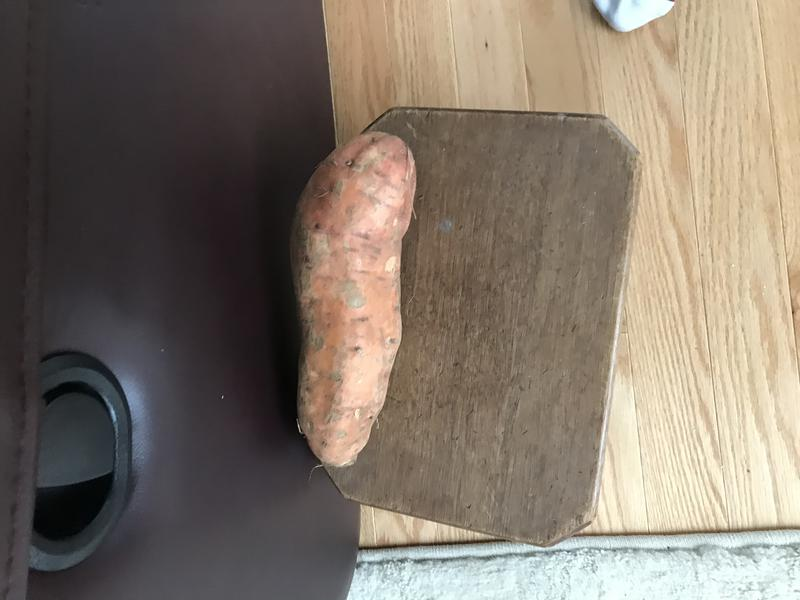sweet_potato: (275, 116, 423, 486)
